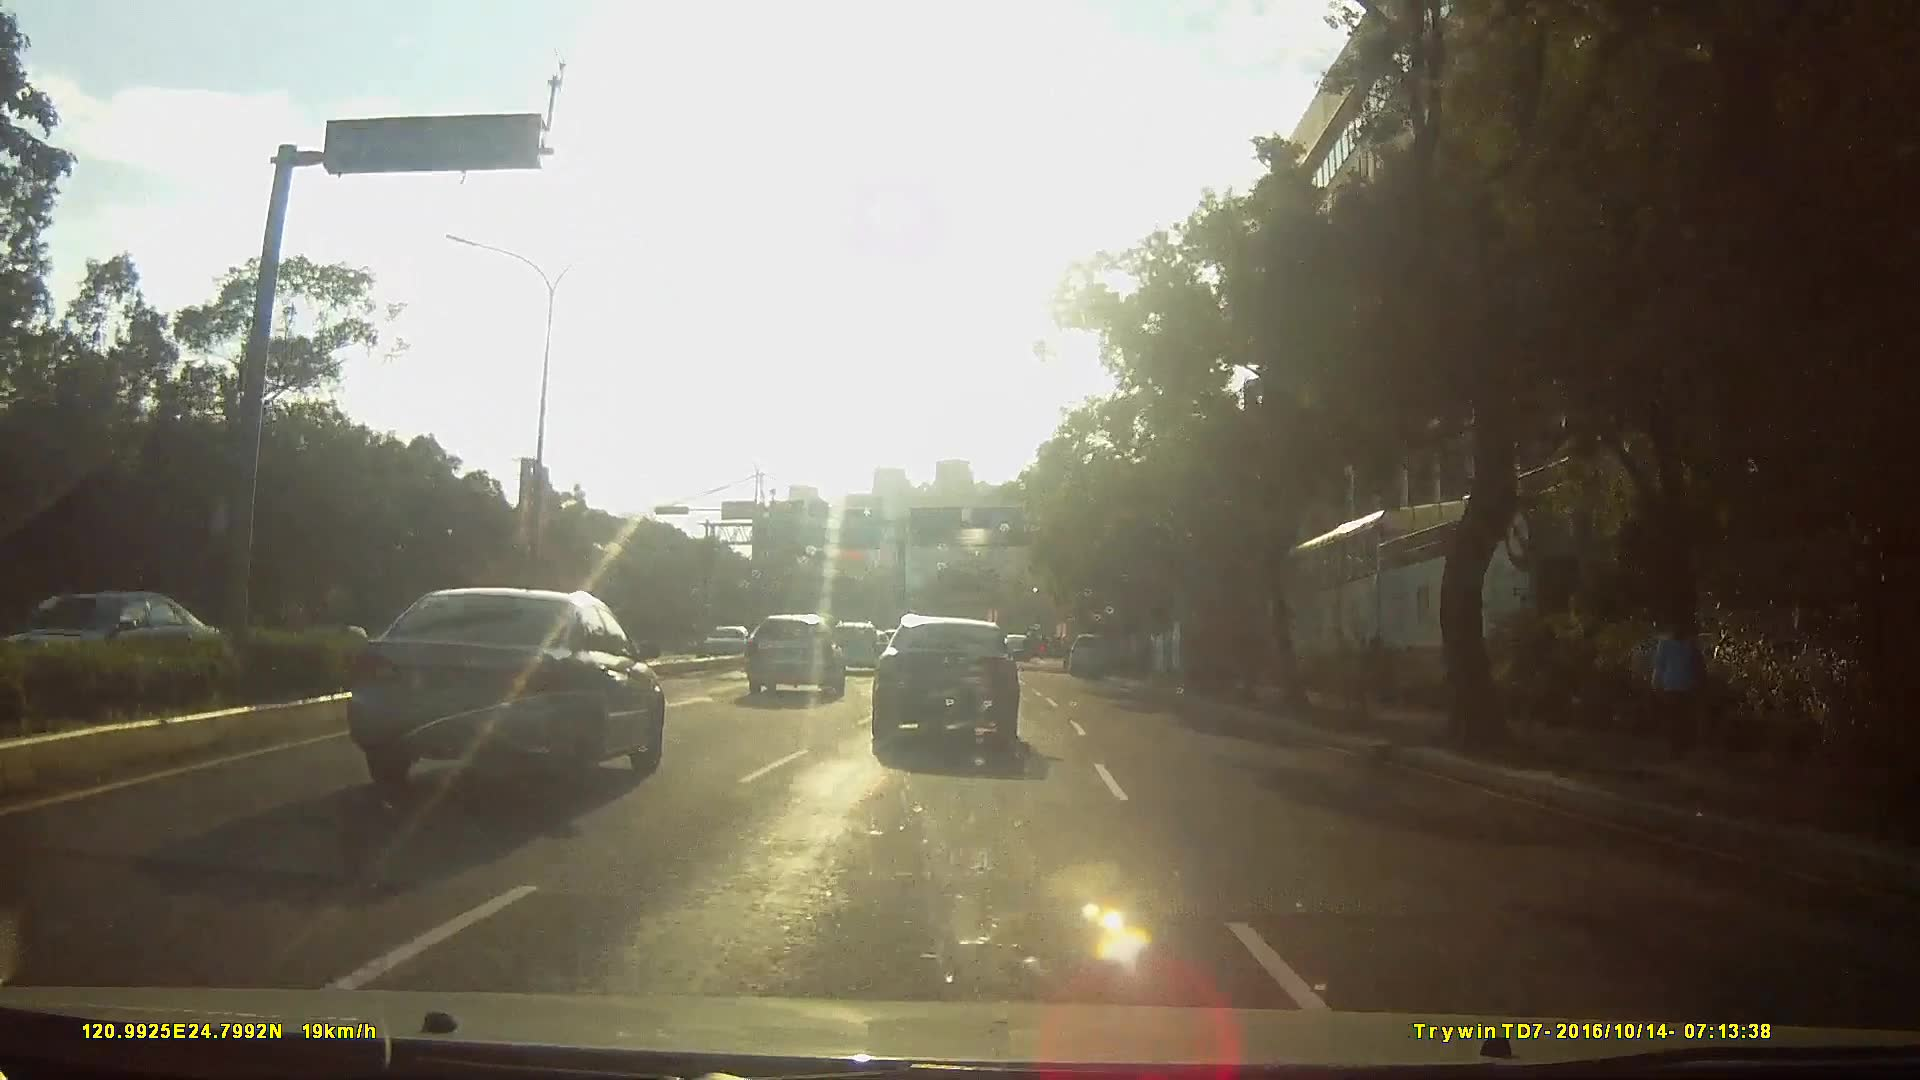pedestrian: (1652, 599, 1711, 768)
vehicle: (326, 583, 676, 802), (8, 584, 224, 697), (868, 613, 1037, 757), (739, 611, 841, 701), (825, 621, 883, 673), (1065, 630, 1117, 678), (701, 619, 756, 662)
